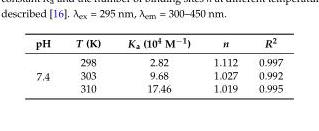table: (34, 34, 282, 94)
table column: (113, 34, 201, 94), (62, 34, 113, 94), (201, 34, 247, 94), (247, 34, 282, 94), (34, 34, 62, 94)
table column header: (34, 34, 282, 52)
table row: (34, 34, 282, 52), (34, 52, 282, 68), (34, 68, 282, 81), (34, 81, 282, 94)
table spanning cell: (34, 52, 62, 94)
